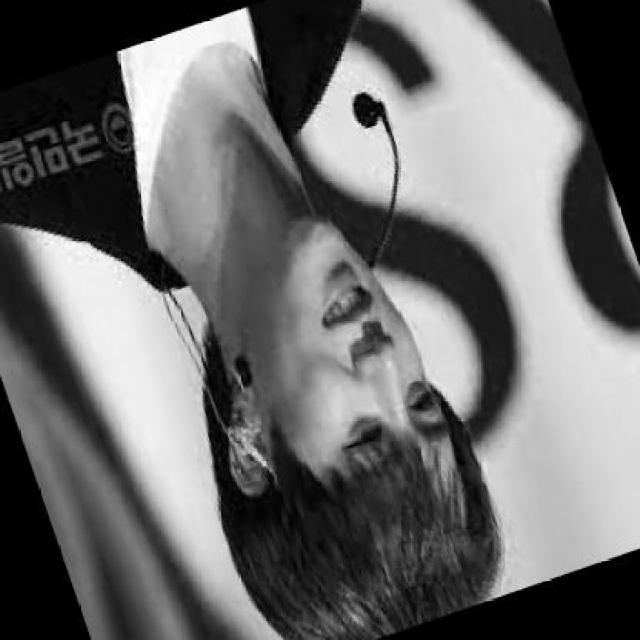earphone: (218, 411, 293, 479)
